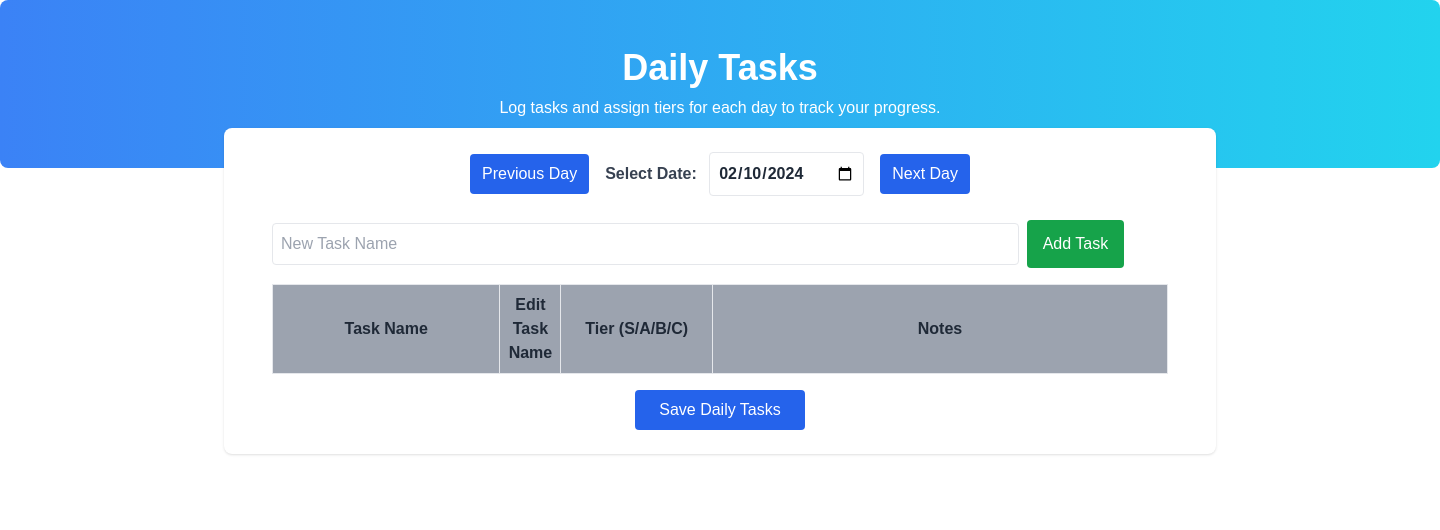
Test: DailyPage (src/app/daily/page.tsx) › moves to previous and next days using the buttons
Check: the date field labelled "Select Date:" holds "2024-02-10", box [709,152,864,196]
Click the button "Previous Day".
click(530, 174)  # box [470,154,589,194]
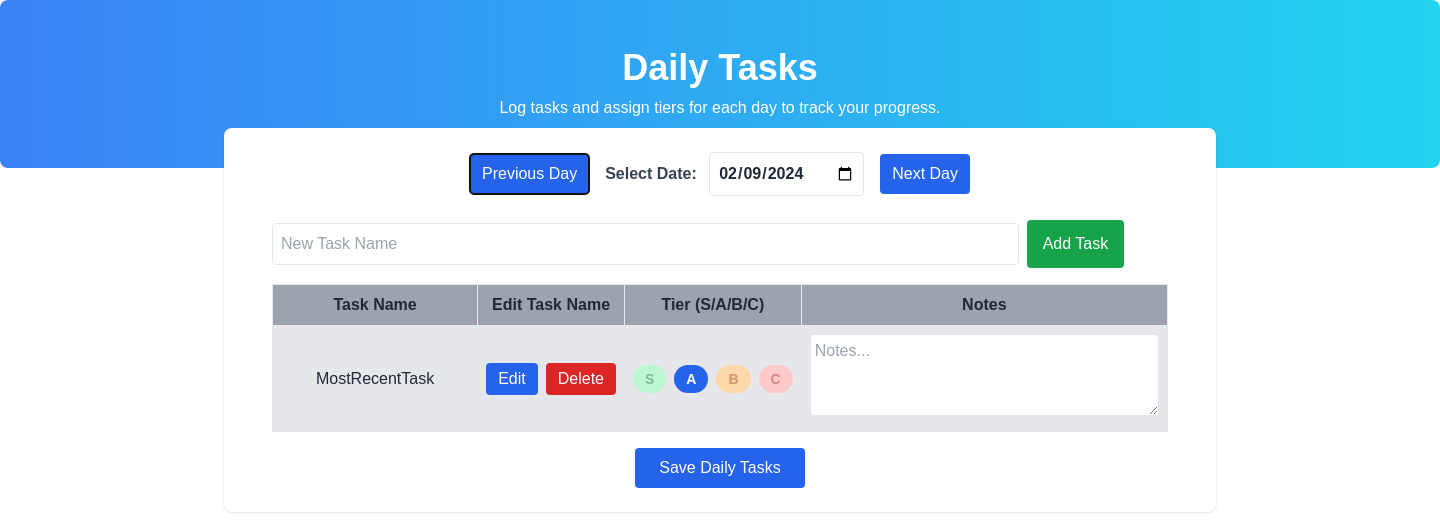
Check: the date field labelled "Select Date:" holds "2024-02-09", box [709,152,864,196]
Click the button "Next Day".
click(925, 174)  # box [880,154,970,194]
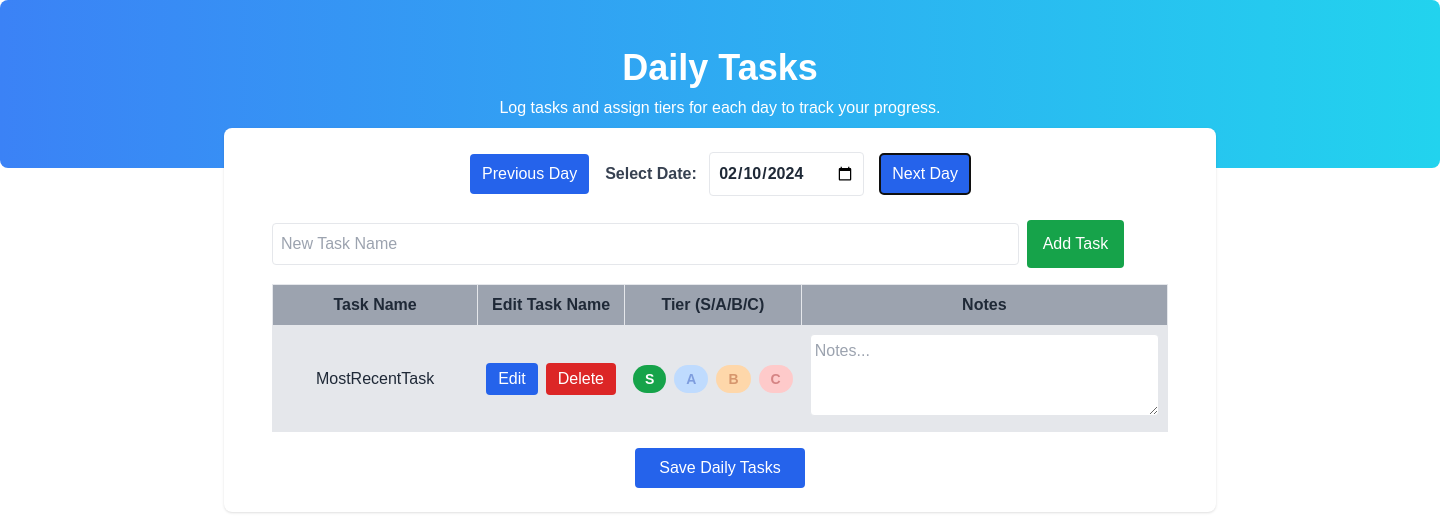
Check: the date field labelled "Select Date:" holds "2024-02-10", box [709,152,864,196]
